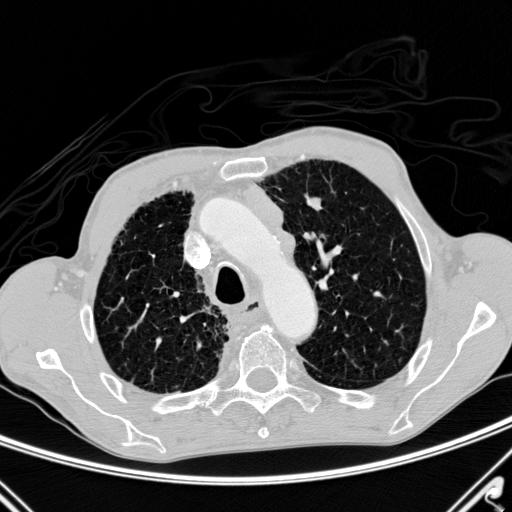nodule: (307, 195, 324, 212)
